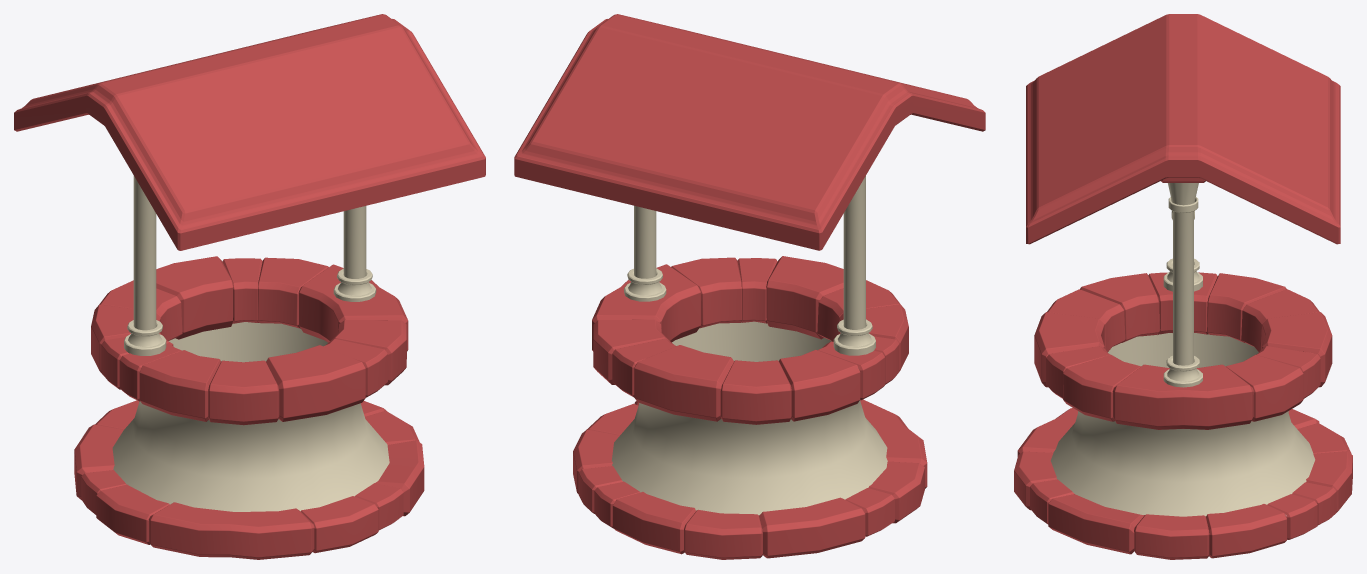
Rendered from Puit.fbx.
3 views of the same model, side by side, from view 1: azimuth 30°, elevation 25°; view 2: azimuth 150°, elevation 25°; view 3: azimuth 270°, elevation 25° (orthographic). The views are drawn at different scales.
Parts seen in each view (by area): view 1: Puit; view 2: Puit; view 3: Puit.
Part boxes in pixels (x1,y1,x2,y2): Puit: (14,14,485,559); Puit: (514,14,985,559); Puit: (1014,14,1352,559).
Size of the model in its own units: 252 by 341 by 251.
